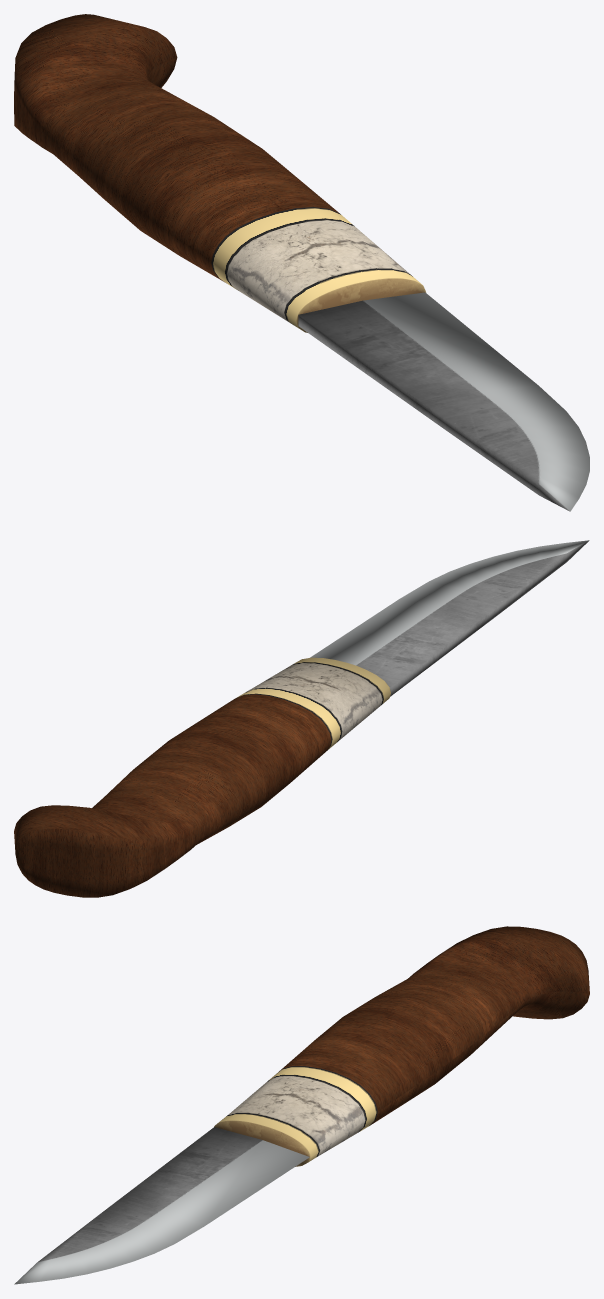
Rendered from knife.glb.
The picture shows the model from 3 angles, top to bottom: view 1: azimuth 30°, elevation 25°; view 2: azimuth 150°, elevation 25°; view 3: azimuth 330°, elevation 25°; orthographic projection. The views are drawn at different scales.
Visible parts, largest first — view 1: Finnish knife; view 2: Finnish knife; view 3: Finnish knife.
Boxes of the visible parts, bbox=[...] form: Finnish knife: bbox=[14, 14, 589, 511]; Finnish knife: bbox=[14, 540, 589, 897]; Finnish knife: bbox=[14, 926, 589, 1284].
Size of the model in its own units: 0.0402 by 0.0194 by 0.2177.
1 material, 1 textured.
